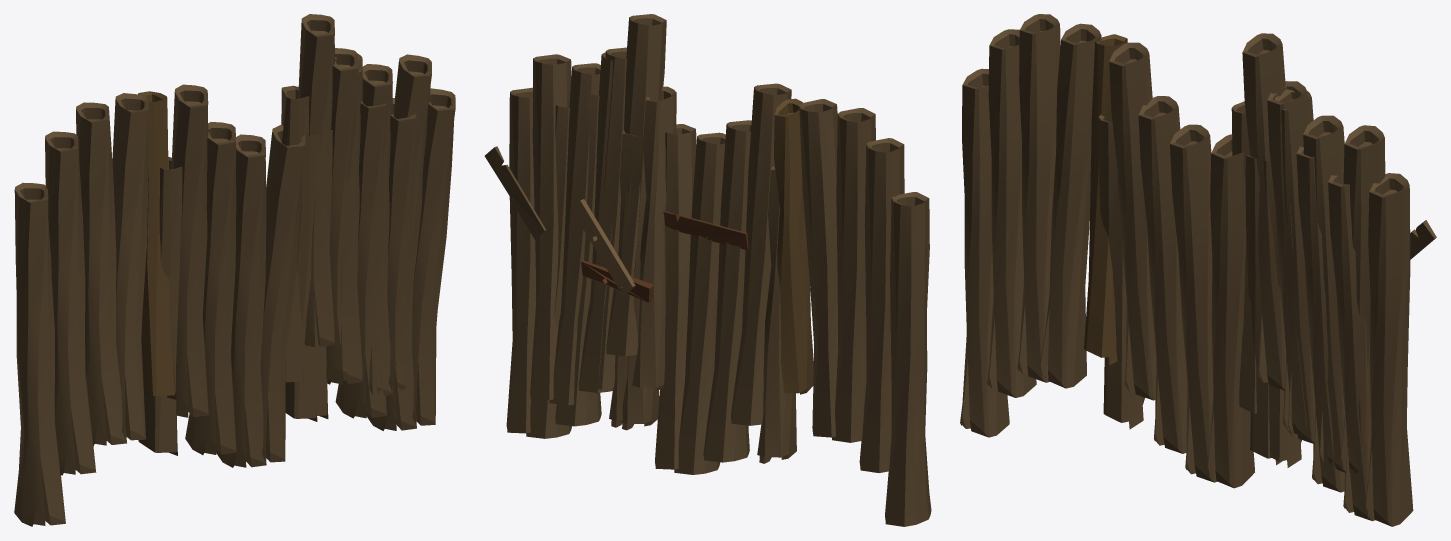
File: Fence 1.fbx
The picture shows the model from 3 angles, left to right: view 1: azimuth 30°, elevation 25°; view 2: azimuth 150°, elevation 25°; view 3: azimuth 330°, elevation 25°; orthographic projection. The views are drawn at different scales.
Visible parts, largest first — view 1: EA04_Env_Tree_Trunk_01e.032, EA04_Env_Tree_Trunk_01e.035, EA04_Env_Tree_Trunk_01e.034, EA04_Env_Tree_Trunk_01e.033, EA04_Env_Tree_Trunk_01e.036, EA04_Env_Tree_Trunk_01e.037, EA04_Env_Tree_Trunk_01e.039, EA04_Env_Tree_Trunk_01e.038, EA04_Env_Tree_Trunk_01e.041, EA04_Env_Tree_Trunk_01e.043, EA04_Env_Tree_Trunk_01e.042, EA04_Env_Tree_Trunk_01e.028 (+9 smaller); view 2: EA04_Env_Tree_Trunk_01e.032, EA04_Env_Tree_Trunk_01e.033, EA04_Env_Tree_Trunk_01e.034, EA04_Env_Tree_Trunk_01e.035, EA04_Env_Tree_Trunk_01e.037, EA04_Env_Tree_Trunk_01e.036, EA04_Env_Tree_Trunk_01e.039, EA04_Env_Tree_Trunk_01e.029, EA04_Env_Tree_Trunk_01a.014, EA04_Env_Tree_Trunk_01e.038, EA04_Env_Tree_Trunk_01e.041, EA04_Env_Tree_Trunk_01a.012 (+13 smaller); view 3: EA04_Env_Tree_Trunk_01e.041, EA04_Env_Tree_Trunk_01e.033, EA04_Env_Tree_Trunk_01e.038, EA04_Env_Tree_Trunk_01e.034, EA04_Env_Tree_Trunk_01e.035, EA04_Env_Tree_Trunk_01e.037, EA04_Env_Tree_Trunk_01e.036, EA04_Env_Tree_Trunk_01e.032, EA04_Env_Tree_Trunk_01e.039, EA04_Env_Tree_Trunk_01e.028, EA04_Env_Tree_Trunk_01e.042, EA04_Env_Tree_Trunk_01e.043 (+10 smaller).
Part boxes in pixels (x1,y1,x2,y2): EA04_Env_Tree_Trunk_01e.032: [14, 182, 65, 526]; EA04_Env_Tree_Trunk_01e.035: [45, 131, 96, 475]; EA04_Env_Tree_Trunk_01e.034: [76, 102, 126, 445]; EA04_Env_Tree_Trunk_01e.033: [112, 93, 148, 440]; EA04_Env_Tree_Trunk_01e.036: [185, 122, 236, 454]; EA04_Env_Tree_Trunk_01e.037: [216, 134, 266, 467]; EA04_Env_Tree_Trunk_01e.039: [172, 84, 208, 417]; EA04_Env_Tree_Trunk_01e.038: [261, 125, 305, 462]; EA04_Env_Tree_Trunk_01e.041: [412, 88, 455, 425]; EA04_Env_Tree_Trunk_01e.043: [335, 101, 386, 418]; EA04_Env_Tree_Trunk_01e.042: [366, 98, 416, 430]; EA04_Env_Tree_Trunk_01e.028: [298, 14, 334, 347]; EA04_Env_Tree_Trunk_01e.032: [885, 192, 931, 526]; EA04_Env_Tree_Trunk_01e.033: [799, 99, 838, 437]; EA04_Env_Tree_Trunk_01e.034: [832, 108, 875, 442]; EA04_Env_Tree_Trunk_01e.035: [859, 138, 904, 472]; EA04_Env_Tree_Trunk_01e.037: [674, 132, 725, 474]; EA04_Env_Tree_Trunk_01e.036: [703, 120, 751, 462]; EA04_Env_Tree_Trunk_01e.039: [731, 83, 791, 425]; EA04_Env_Tree_Trunk_01e.029: [530, 54, 571, 399]; EA04_Env_Tree_Trunk_01a.014: [774, 98, 813, 394]; EA04_Env_Tree_Trunk_01e.038: [655, 124, 696, 469]; EA04_Env_Tree_Trunk_01e.041: [506, 87, 535, 433]; EA04_Env_Tree_Trunk_01a.012: [632, 86, 676, 390]; EA04_Env_Tree_Trunk_01e.041: [1365, 173, 1413, 526]; EA04_Env_Tree_Trunk_01e.033: [1039, 23, 1101, 388]; EA04_Env_Tree_Trunk_01e.038: [1207, 134, 1254, 488]; EA04_Env_Tree_Trunk_01e.034: [1017, 14, 1060, 382]; EA04_Env_Tree_Trunk_01e.035: [987, 29, 1036, 397]; EA04_Env_Tree_Trunk_01e.037: [1170, 124, 1216, 482]; EA04_Env_Tree_Trunk_01e.036: [1138, 96, 1187, 453]; EA04_Env_Tree_Trunk_01e.032: [960, 68, 1009, 437]; EA04_Env_Tree_Trunk_01e.039: [1109, 42, 1156, 400]; EA04_Env_Tree_Trunk_01e.028: [1242, 33, 1285, 390]; EA04_Env_Tree_Trunk_01e.042: [1328, 175, 1375, 521]; EA04_Env_Tree_Trunk_01e.043: [1296, 146, 1344, 492].
Size of the model in its own units: 1197 by 1141 by 191.
